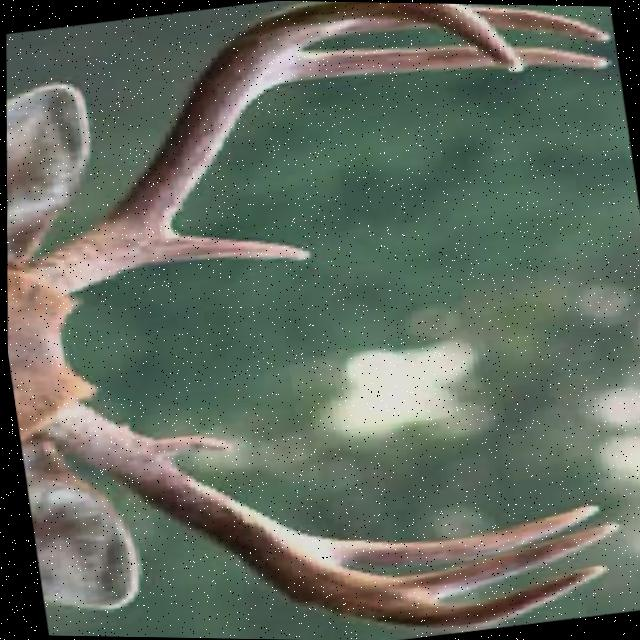L-F: (23, 0, 524, 293)
L-G1: (135, 229, 312, 266)
R-G1: (147, 433, 231, 456)
R-G2: (313, 503, 599, 566)
R-G3: (25, 400, 606, 633), (394, 520, 620, 597)
